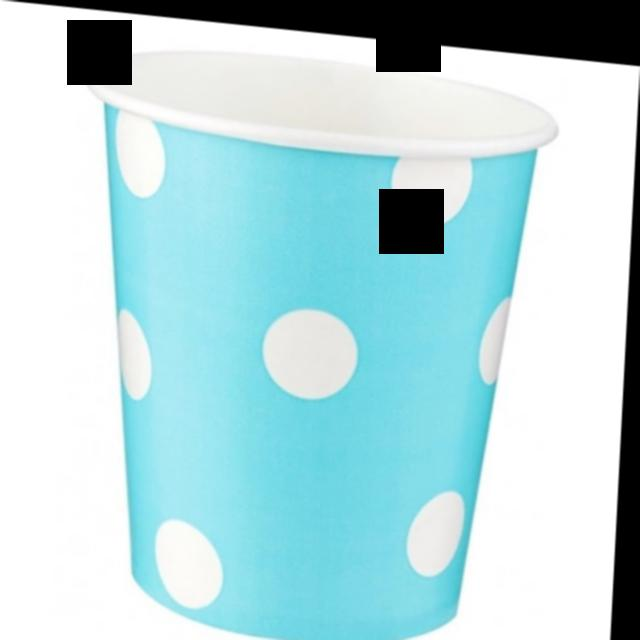karton-bardak: (53, 24, 564, 640)
